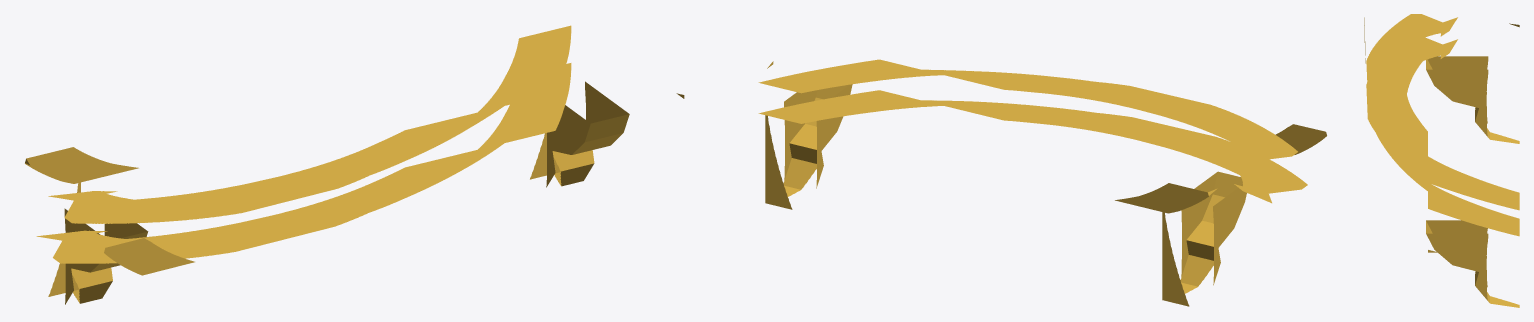
Rendered from shelf.fbx.
The picture shows the model from 3 angles, left to right: view 1: azimuth 30°, elevation 25°; view 2: azimuth 150°, elevation 25°; view 3: azimuth 270°, elevation 25°; orthographic projection. The views are drawn at different scales.
Parts seen in each view (by area): view 1: Shelf; view 2: Shelf; view 3: Shelf.
Part boxes in pixels (bbox=[...]): Shelf: bbox=[25, 25, 684, 304]; Shelf: bbox=[758, 59, 1326, 306]; Shelf: bbox=[1364, 14, 1519, 307].
Size of the model in its own units: 1.36 by 0.4126 by 0.2946.
